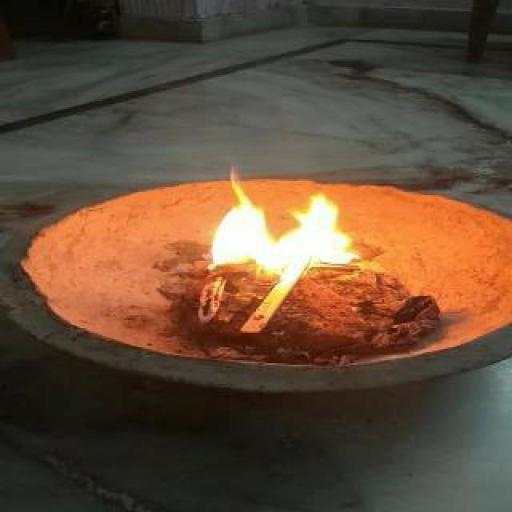smoke: (184, 157, 363, 288)
